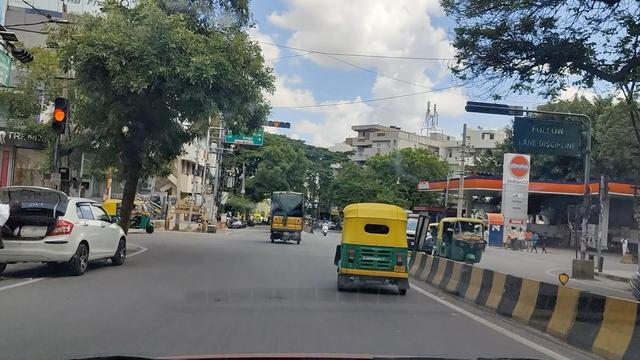HMV: (271, 192, 304, 239)
LMV: (14, 186, 131, 273), (338, 202, 411, 291)
